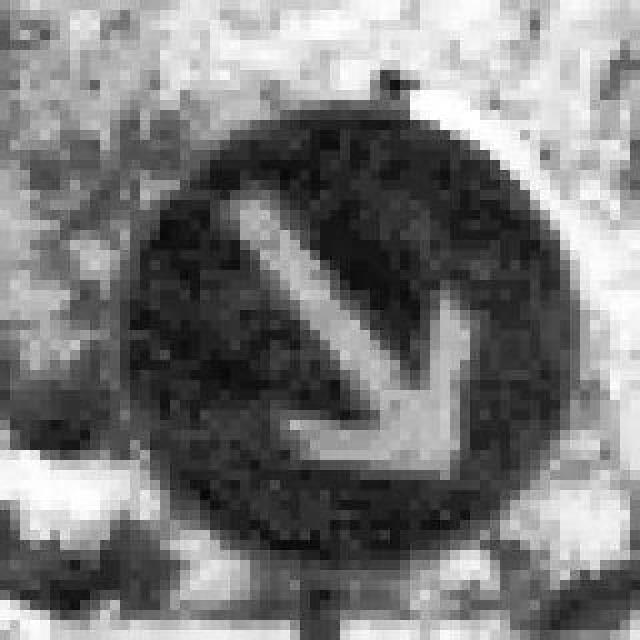keep right: (110, 90, 570, 570)
